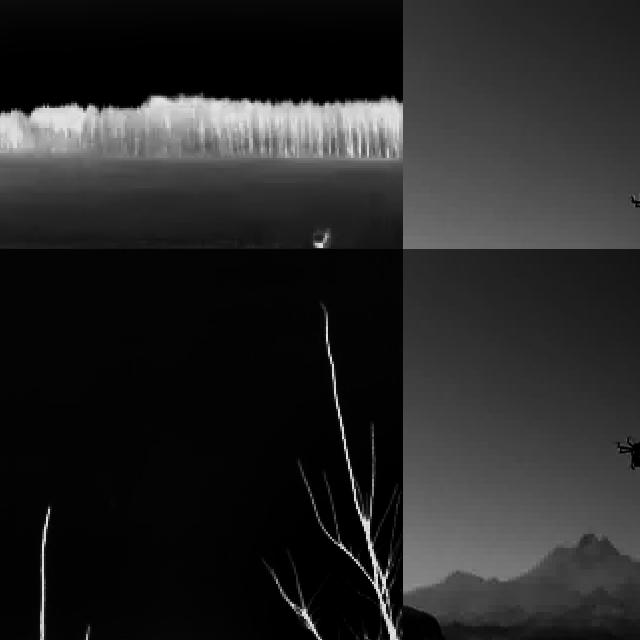0: (98, 492, 126, 524)
drone: (613, 427, 640, 474), (627, 184, 640, 232)
